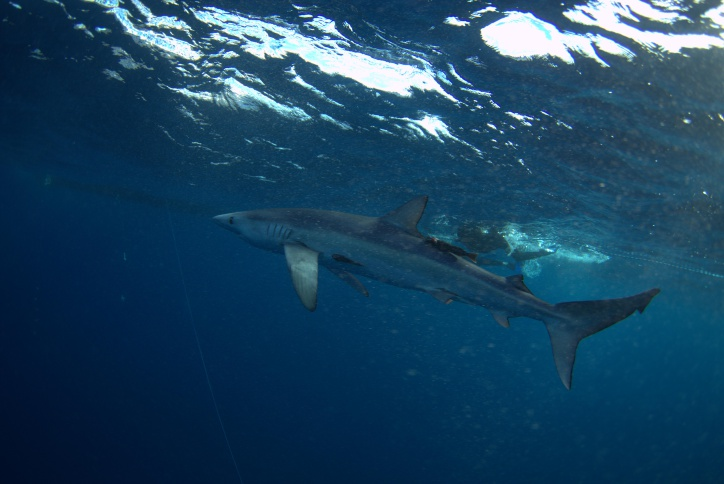Azul: (202, 186, 689, 407)
